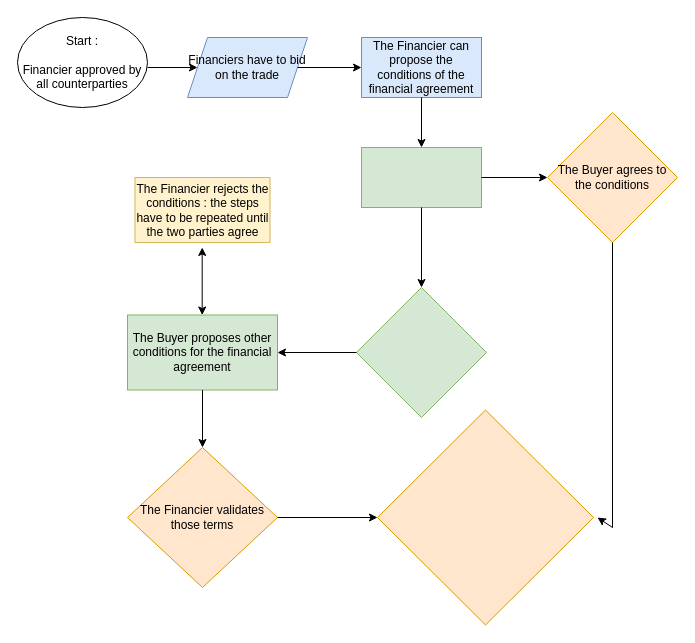
Image size: 695x643. Some labels were removed from this diagram. Here are the shapes that lost their labels. From the top down, the centre of each, then its label:
pixel 421 177: The Buyer has to analyse the conditions
pixel 421 352: The Buyer disagrees with the conditions
pixel 485 517: The agreed amount is locked
